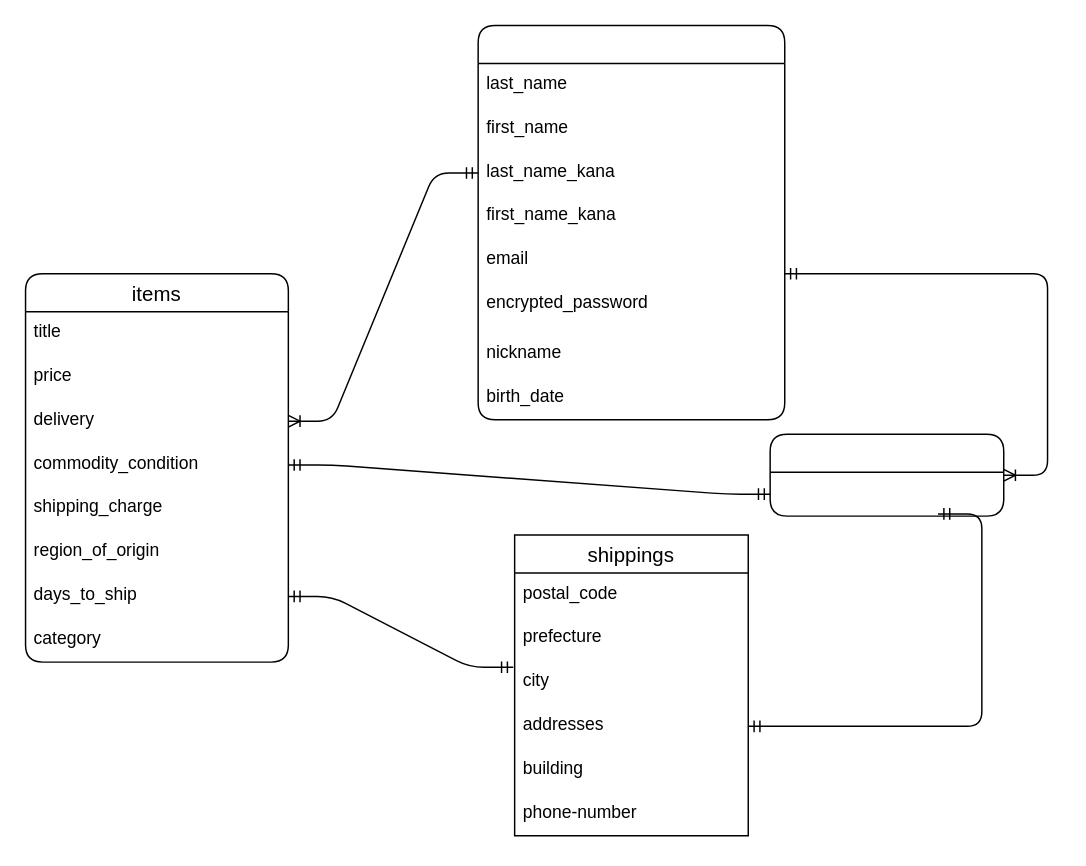
This 1086x866 diagram has some shape labels left out. The shapes that lost their labels are listed below. From the top down, each one's box as (x1, y1, x2, y2) in pixels, then its label:
(477, 24, 785, 420): users
(769, 433, 1004, 516): purchases
